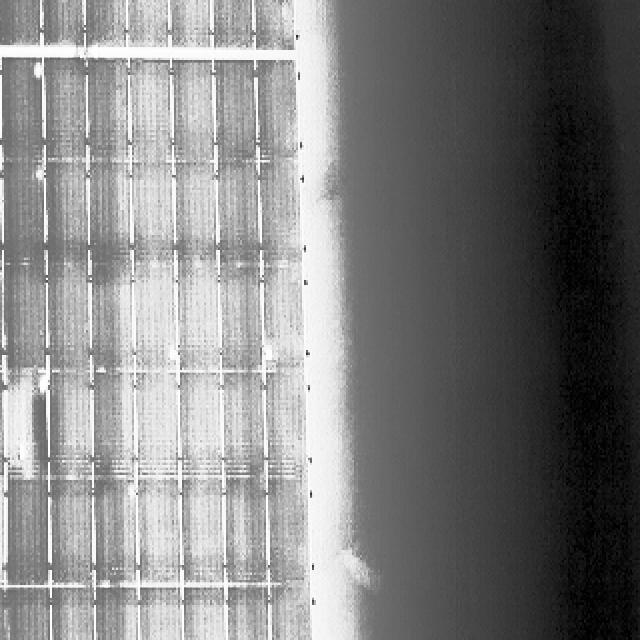Hotspots: (5, 442, 26, 470), (86, 38, 102, 62), (29, 163, 47, 184), (33, 376, 50, 395), (29, 60, 43, 80), (95, 360, 112, 375), (167, 344, 178, 363), (265, 348, 275, 364), (0, 268, 2, 288)
PV-modules: (179, 376, 235, 478), (2, 264, 50, 374), (220, 478, 266, 590), (182, 478, 227, 591), (6, 480, 52, 590), (48, 480, 94, 590), (88, 264, 133, 376), (218, 267, 264, 376), (176, 265, 221, 375), (268, 477, 312, 589), (94, 478, 138, 590), (3, 155, 49, 262), (45, 160, 91, 266), (136, 478, 180, 588), (46, 265, 90, 375), (124, 157, 170, 260), (133, 265, 176, 375), (262, 268, 307, 373), (47, 372, 92, 477), (215, 160, 259, 267), (254, 156, 298, 263), (42, 58, 87, 162), (84, 58, 128, 164), (265, 372, 309, 477), (128, 59, 172, 164), (8, 374, 51, 481), (223, 374, 268, 476), (92, 374, 137, 476), (172, 60, 216, 164), (256, 60, 300, 164), (134, 374, 179, 475), (214, 60, 257, 164), (174, 163, 217, 266), (0, 58, 42, 162), (90, 161, 132, 265), (222, 580, 268, 640), (90, 582, 136, 640), (2, 585, 48, 640), (182, 585, 228, 640), (136, 585, 180, 640), (268, 585, 312, 640), (126, 0, 172, 52), (207, 0, 253, 52), (50, 590, 96, 640), (39, 0, 84, 51), (255, 0, 298, 53), (169, 0, 212, 53), (81, 0, 125, 51), (0, 0, 42, 48), (0, 370, 8, 478), (0, 268, 6, 372), (0, 480, 4, 588), (0, 157, 2, 265), (0, 55, 2, 163), (0, 582, 2, 640)
